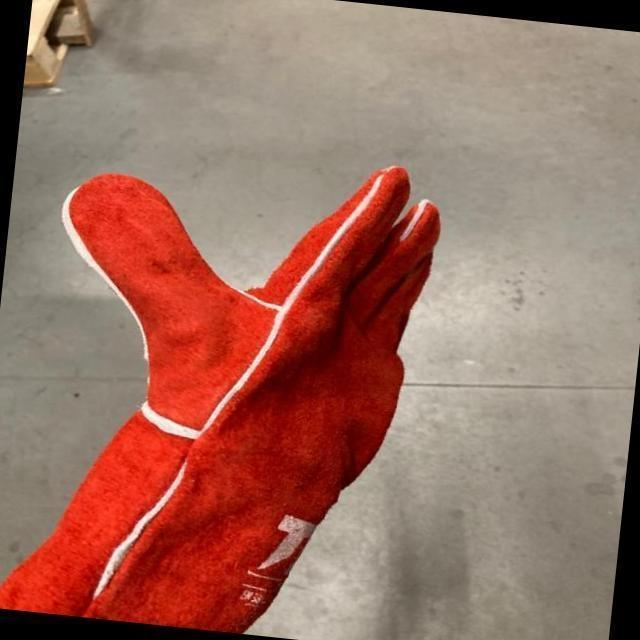glove: (0, 163, 441, 634)
